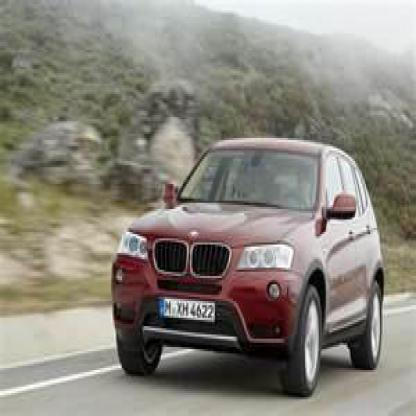Vehicle: (110, 134, 390, 397)
